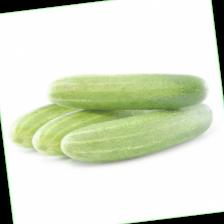cucumber: (43, 58, 210, 124), (57, 101, 218, 168), (28, 98, 172, 160), (5, 92, 132, 151)
